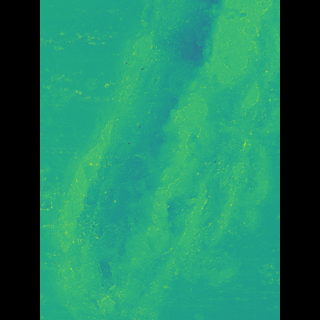Loch: (78, 0, 251, 320)
